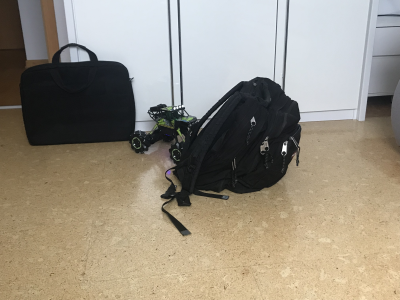remote control car: (128, 99, 202, 164)
